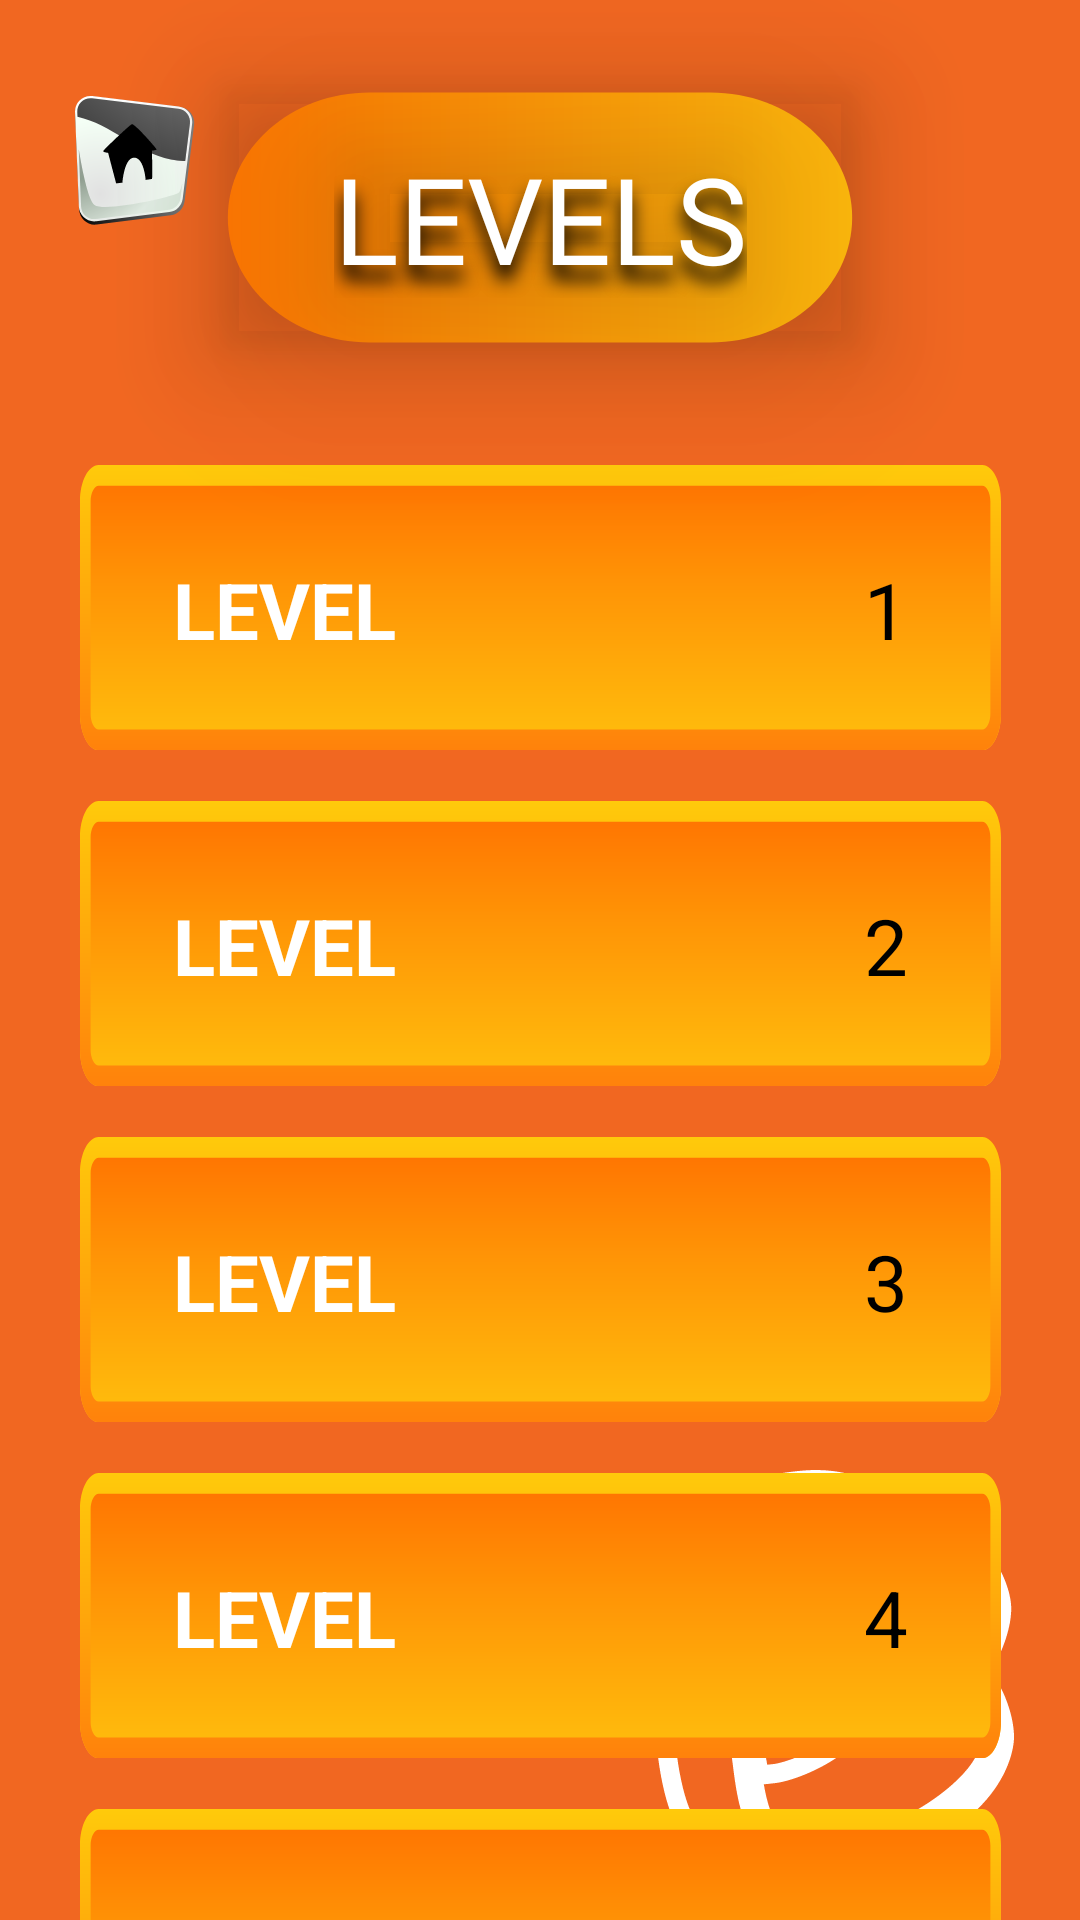

Icons on this 1080×1920 Android screen, each with its box as Rect(x1, y1, x2, y2):
home: Rect(75, 96, 195, 225)
